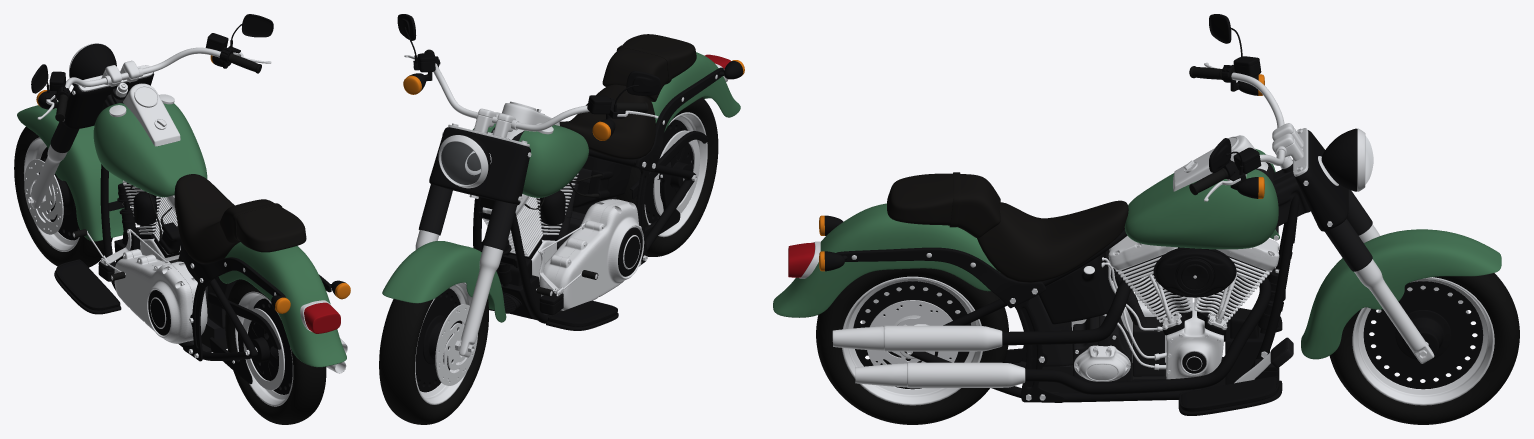
The model's file is fatboyw.glb.
3 renders of one model, left to right at view 1: azimuth 30°, elevation 25°; view 2: azimuth 150°, elevation 25°; view 3: azimuth 270°, elevation 25°, orthographic. The views are drawn at different scales.
Parts seen in each view (by area): view 1: Cube, Plane.001, Plane, Circle, Cube.018, Cylinder.001, Cube.019, Cylinder, Cube.027, NurbsPath.001, Cylinder.039, Cube.001 (+32 smaller); view 2: Cylinder, Circle, Plane, Cube, Cube.001, Cube.018, Cube.019, Cylinder.002, Cylinder.001, NurbsPath.001, Plane.001, Cylinder.044 (+33 smaller); view 3: Plane, Cube, Plane.001, Cylinder.001, NurbsPath, Cube.018, Cylinder, wheel, NurbsPath.002, Cube.019, NurbsPath.001, Circle.002 (+33 smaller).
Part boxes in pixels (x1,y1,x2,y2): Cube: (93, 102, 207, 197); Plane.001: (218, 242, 346, 367); Plane: (17, 101, 124, 241); Circle: (114, 251, 192, 343); Cube.018: (174, 174, 238, 263); Cylinder.001: (225, 279, 326, 424); Cube.019: (220, 199, 306, 252); Cylinder: (14, 126, 112, 267); Cube.027: (54, 259, 121, 314); NurbsPath.001: (100, 164, 257, 360); Cylinder.039: (24, 159, 63, 234); Cube.001: (63, 72, 153, 128); Cylinder: (379, 298, 488, 424); Circle: (554, 201, 644, 310); Plane: (382, 241, 506, 322); Cube: (473, 123, 588, 197); Cube.001: (429, 127, 530, 205); Cube.018: (559, 84, 655, 159); Cube.019: (602, 34, 696, 101); Cylinder.002: (459, 200, 517, 357); Cylinder.001: (616, 97, 718, 256); NurbsPath.001: (473, 149, 695, 323); Plane.001: (651, 52, 740, 131); Cylinder.044: (438, 134, 490, 188); Plane: (1301, 229, 1501, 359); Cube: (1124, 149, 1278, 249); Plane.001: (773, 203, 997, 317); Cylinder.001: (816, 268, 1008, 424); NurbsPath: (855, 277, 1271, 394); Cube.018: (977, 200, 1128, 282); Cylinder: (1329, 273, 1519, 424); wheel: (1363, 281, 1483, 389); NurbsPath.002: (832, 280, 1132, 351); Cube.019: (887, 172, 1000, 238); NurbsPath.001: (904, 195, 1299, 402); Circle.002: (1352, 277, 1494, 405).
Bounding box in the file's own units: 4.21 × 4.73 × 9.3.
